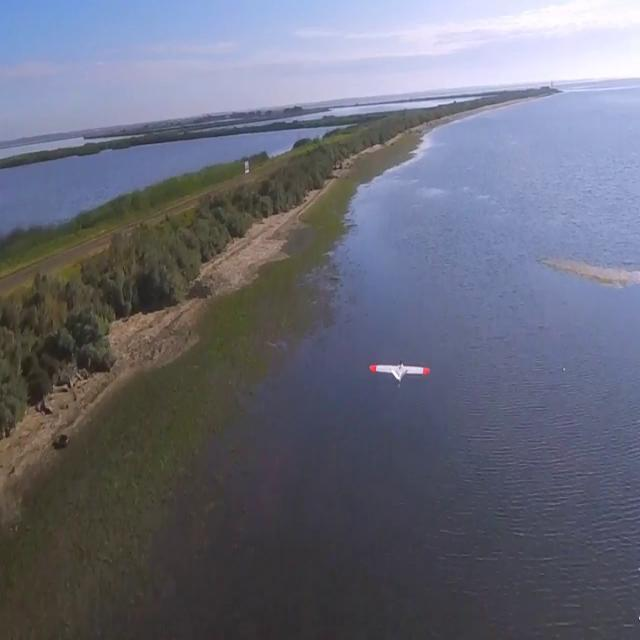iha: (399, 355, 401, 393)
